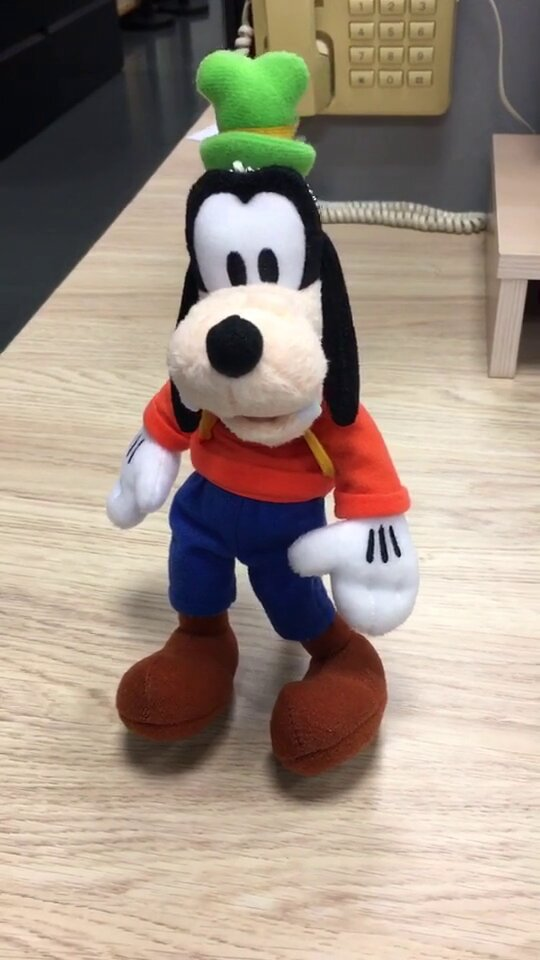goofy: (102, 48, 421, 778)
